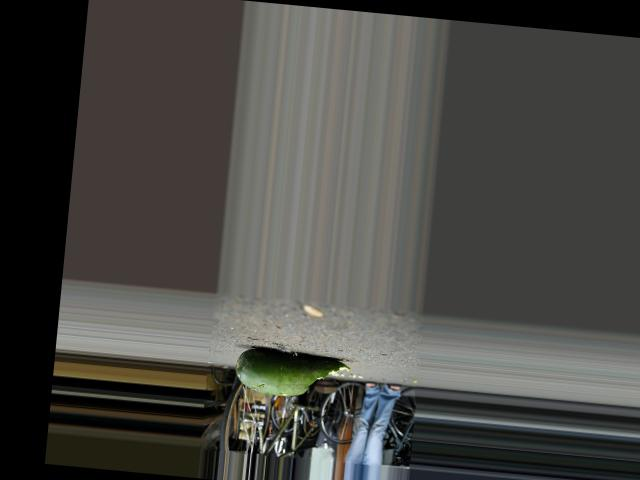cucumber: (234, 346, 353, 401)
